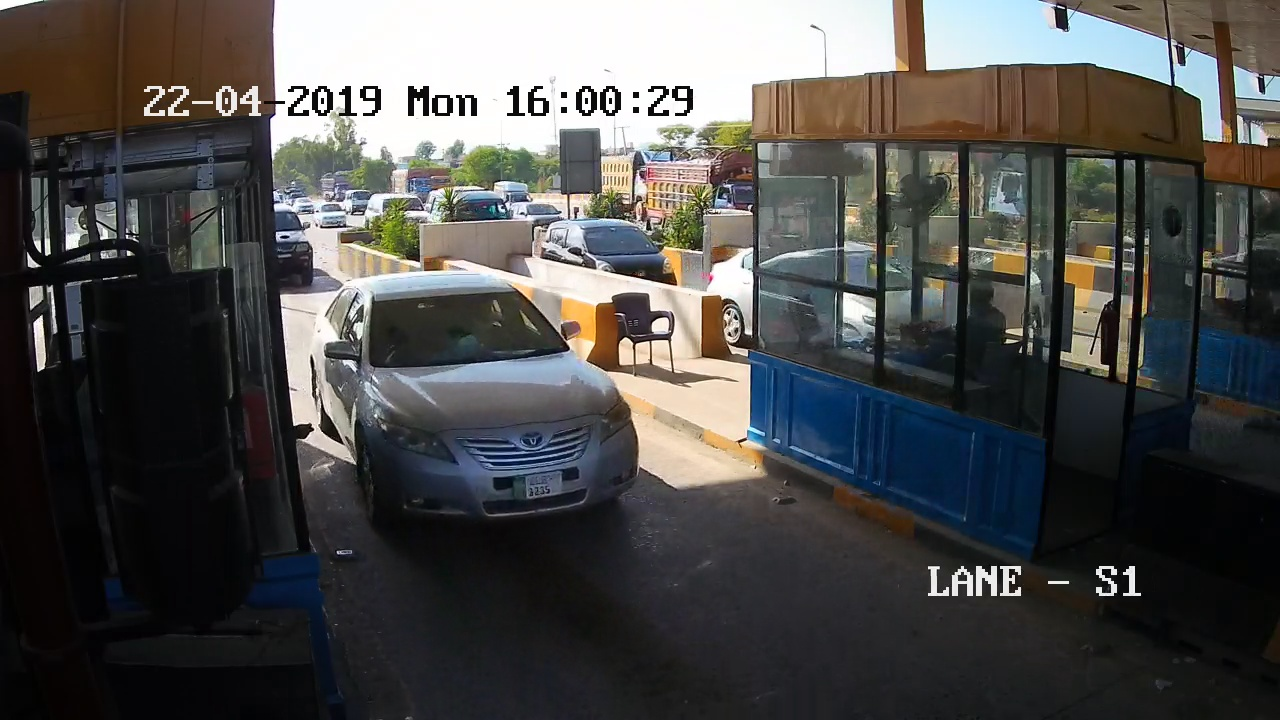car: (295, 265, 666, 587)
